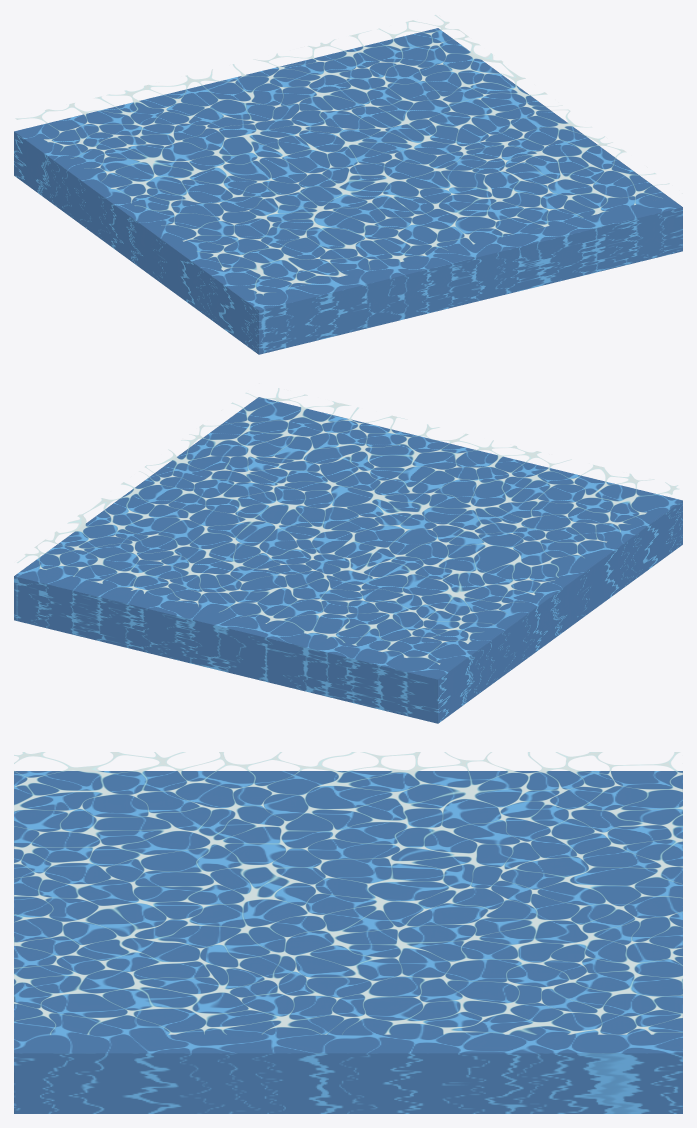
File: tile0110.gltf
3 renders of one model, top to bottom at view 1: azimuth 30°, elevation 25°; view 2: azimuth 150°, elevation 25°; view 3: azimuth 270°, elevation 25°, orthographic. The views are drawn at different scales.
Parts seen in each view (by area): view 1: Plane.015, Plane.016; view 2: Plane.015, Plane.016; view 3: Plane.015, Plane.016.
Part boxes in pixels (<box>): Plane.015: <box>14,28,682,354</box>; Plane.016: <box>15,15,669,295</box>; Plane.015: <box>14,397,682,723</box>; Plane.016: <box>17,388,678,664</box>; Plane.015: <box>14,771,682,1113</box>; Plane.016: <box>14,752,682,1034</box>.
Size of the model in its own units: 5.3 by 0.6925 by 5.3.
Materials: 2 (2 with a texture image).
